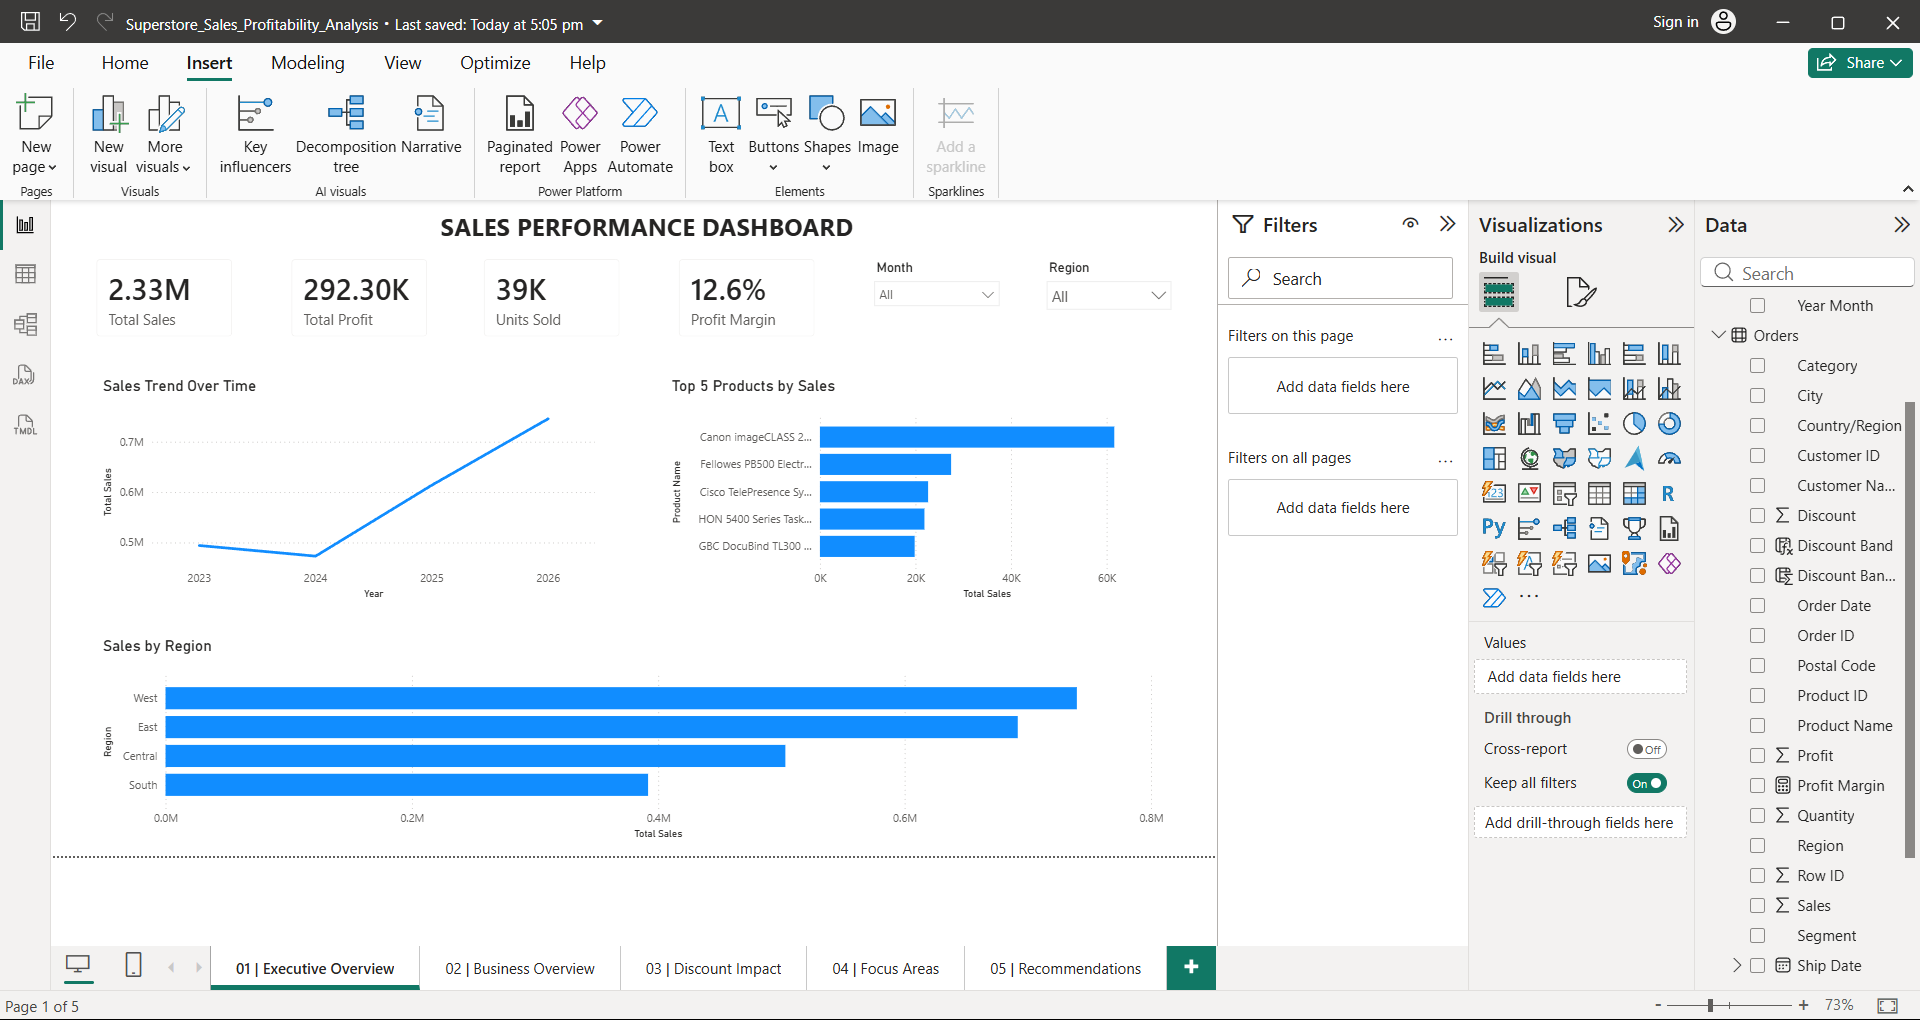

Layout of this report page (visuals, bound fields, positions):
{"tool":"powerbi","page":{"name":"01 | Executive Overview","canvas":[1280,720],"ordinal":0},"visuals":[{"type":"cardVisual","fields":{"Data":["Orders.Total Sales"]},"box":[32.9,48,183.9,119.4],"z":0},{"type":"cardVisual","fields":{"Data":["Orders.Total Profit"]},"box":[246.4,48,183,119],"z":1000},{"type":"cardVisual","fields":{"Data":["Orders.Units Sold"]},"box":[458.9,48,183.9,119],"z":2000},{"type":"cardVisual","fields":{"Data":["Orders.Profit Margin"]},"box":[672.4,48,183,119],"z":3000},{"type":"clusteredBarChart","title":"Sales by Region","fields":{"Category":["Orders.Region"],"Y":["Orders.Total Sales"]},"box":[52.1,478.9,1174.6,227.8],"z":4000},{"type":"slicer","fields":{"Values":["Orders.Region"]},"box":[1082.7,60.4,157,87.8],"z":5000},{"type":"textbox","box":[422.6,5.5,506.3,45.3],"z":6000},{"type":"clusteredBarChart","title":"Top 5 Products by Sales","fields":{"Category":["Orders.Product Name"],"Y":["Orders.Total Sales"]},"box":[676.5,193.5,550,250],"z":7000},{"type":"slicer","fields":{"Values":["DateTable.Month"]},"box":[893.3,60.4,157.8,87.8],"z":8000},{"type":"lineChart","title":"Sales Trend Over Time","fields":{"Category":["DateTable.Date.Variation.Date Hierarchy.Year","DateTable.Date.Variation.Date Hierarchy.Quarter","DateTable.Date.Variation.Date Hierarchy.Month","DateTable.Date.Variation.Date Hierarchy.Day"],"Y":["Orders.Total Sales"]},"box":[52.1,193.5,550,250],"z":9000}]}

Visuals, with their boxes on the page's 1280x720 design canvas (x1, y1, x2, y2). These are canvas units, not pixel positions in the 1920x1020 screenshot, which may show the page scaled, cropped or inside an application window:
cardVisual - Orders.Total Sales: Rect(33, 48, 217, 167)
cardVisual - Orders.Total Profit: Rect(246, 48, 429, 167)
cardVisual - Orders.Units Sold: Rect(459, 48, 643, 167)
cardVisual - Orders.Profit Margin: Rect(672, 48, 855, 167)
"Sales by Region" clusteredBarChart: Rect(52, 479, 1227, 707)
slicer - Orders.Region: Rect(1083, 60, 1240, 148)
textbox: Rect(423, 6, 929, 51)
"Top 5 Products by Sales" clusteredBarChart: Rect(676, 194, 1226, 444)
slicer - DateTable.Month: Rect(893, 60, 1051, 148)
"Sales Trend Over Time" lineChart: Rect(52, 194, 602, 444)
